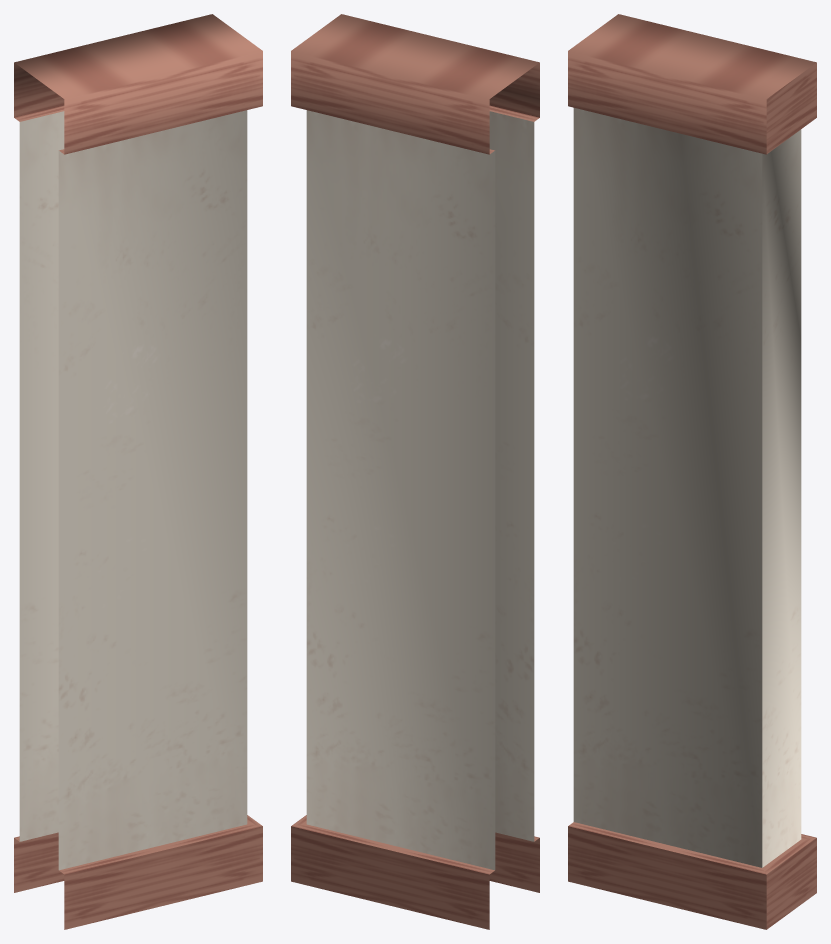
Rendered from paret_tancada.fbx.
The picture shows the model from 3 angles, left to right: view 1: azimuth 30°, elevation 25°; view 2: azimuth 150°, elevation 25°; view 3: azimuth 330°, elevation 25°; orthographic projection.
Parts seen in each view (by area): view 1: Pared_Cerrado; view 2: Pared_Cerrado; view 3: Pared_Cerrado.
Part boxes in pixels (x1,y1,x2,y2): Pared_Cerrado: (14,14,262,929); Pared_Cerrado: (291,14,539,929); Pared_Cerrado: (568,14,816,929).
Size of the model in its own units: 100 by 400 by 44.
